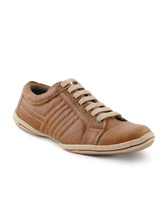shoes: (9, 75, 158, 157)
